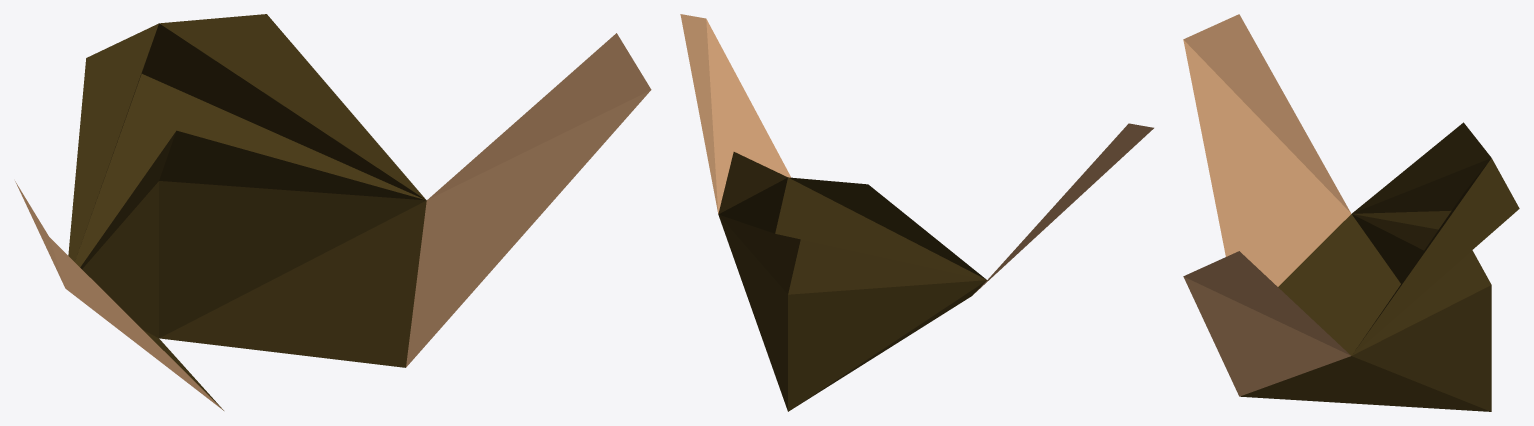
The model's file is player_male_beard_10_0.obj.
The picture shows the model from 3 angles, left to right: view 1: azimuth 30°, elevation 25°; view 2: azimuth 150°, elevation 25°; view 3: azimuth 270°, elevation 25°; orthographic projection. The views are drawn at different scales.
Bounding box in the file's own units: 0.1562 × 0.0859 × 0.0938.
